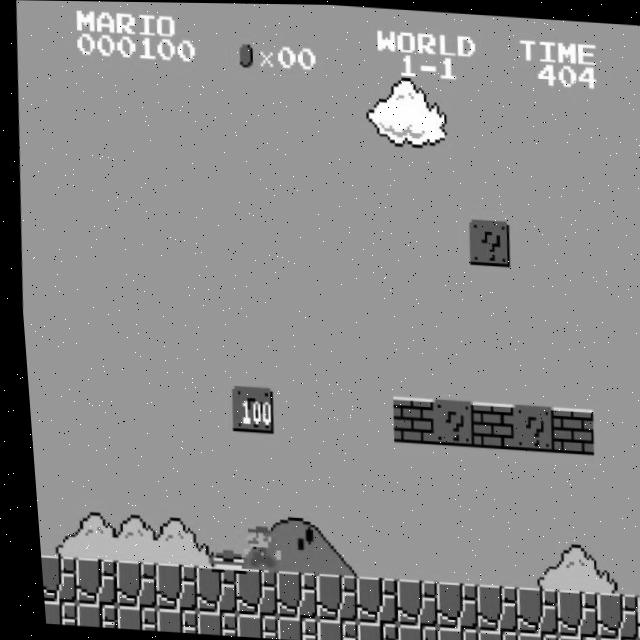1- brick_block: (384, 395, 430, 444), (464, 400, 510, 449), (544, 406, 590, 454)
11- little_mario: (227, 522, 276, 573)
13- mystery_block: (224, 385, 270, 433), (424, 398, 470, 446), (463, 218, 509, 266), (504, 403, 550, 451)
17- undestructible_block: (64, 557, 110, 606), (345, 575, 391, 624), (425, 580, 471, 629), (465, 583, 511, 632), (505, 585, 551, 634), (185, 565, 231, 613), (225, 568, 271, 616), (385, 578, 431, 626), (545, 588, 591, 636), (145, 562, 190, 611), (265, 570, 310, 619), (586, 590, 631, 639), (105, 560, 150, 608), (305, 573, 350, 621), (32, 555, 70, 603), (106, 605, 149, 631), (186, 610, 229, 636), (226, 613, 270, 638), (66, 603, 109, 628), (146, 608, 189, 633), (266, 616, 310, 640), (306, 618, 350, 640), (35, 600, 69, 625), (346, 621, 389, 640), (386, 623, 429, 640), (625, 592, 640, 640), (426, 626, 469, 640), (466, 628, 509, 640), (506, 630, 549, 640), (547, 633, 589, 640), (587, 635, 629, 640), (627, 638, 640, 640)
